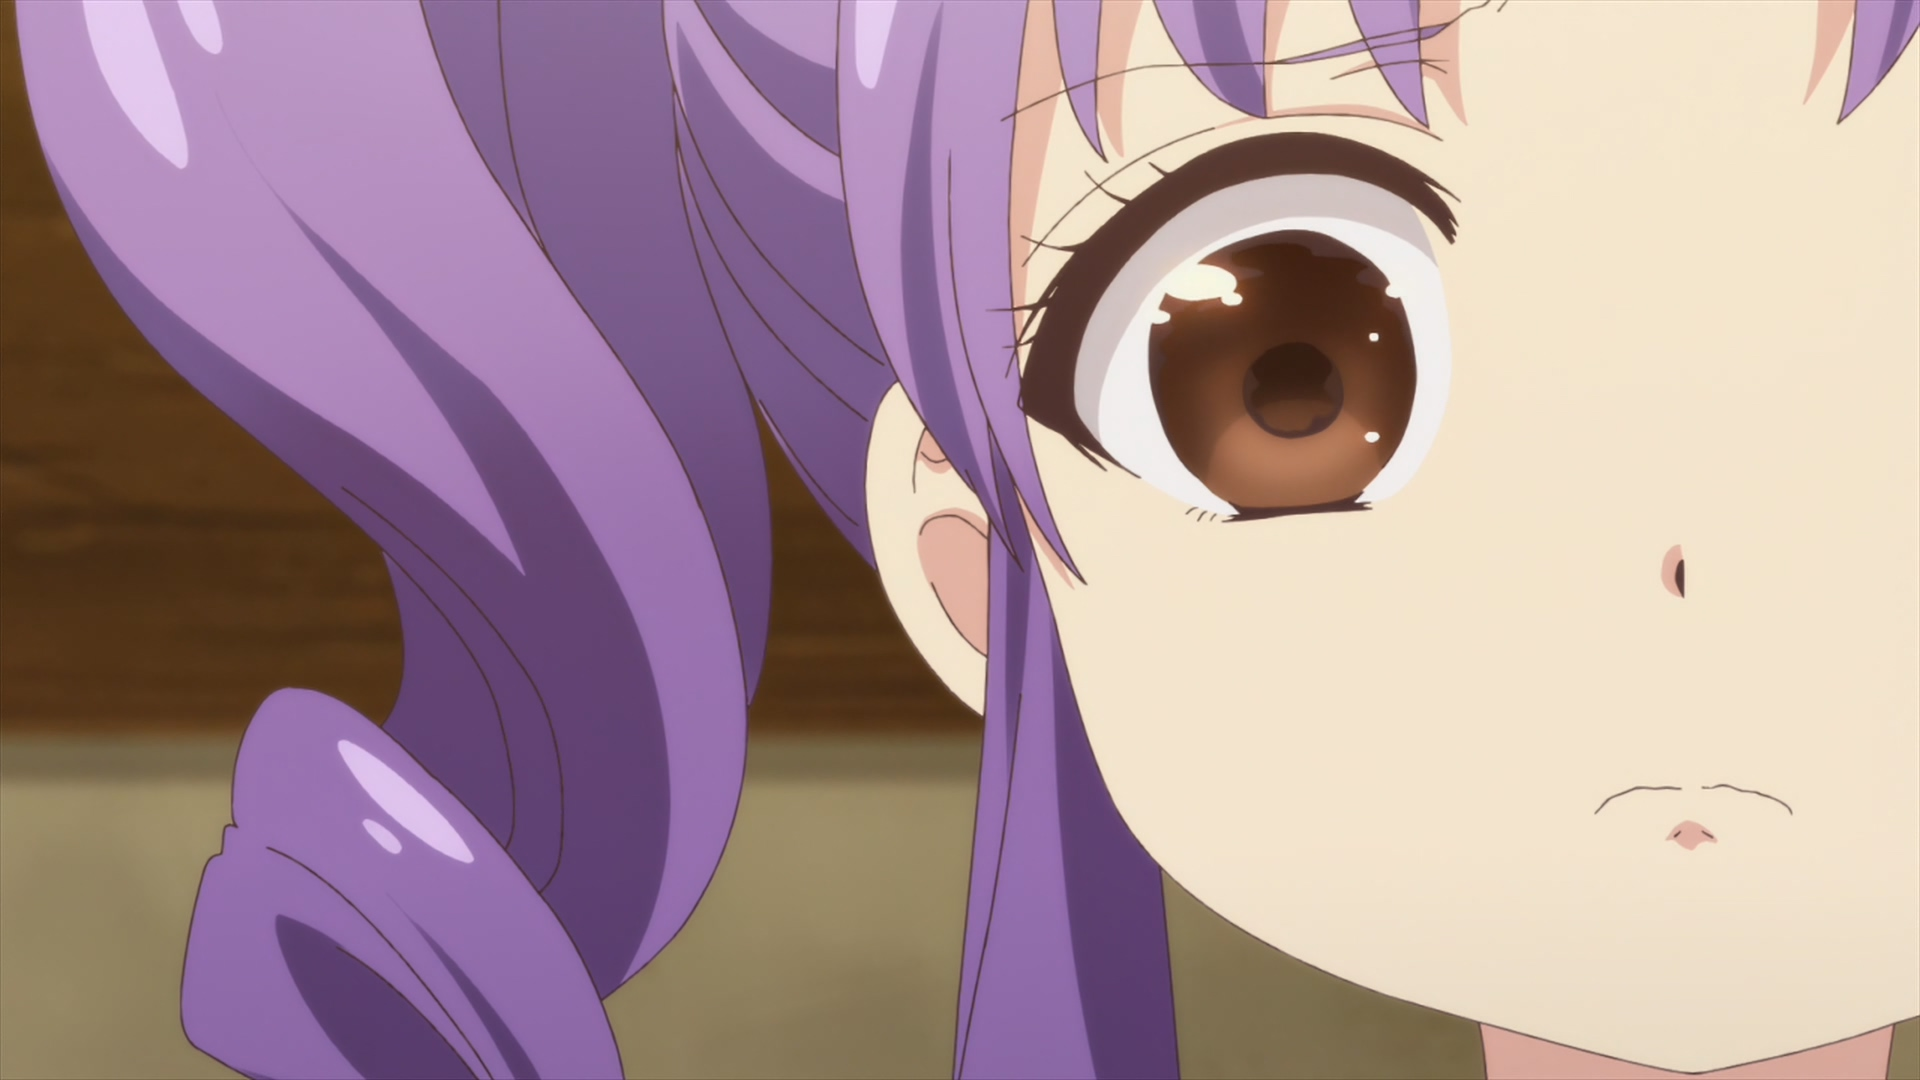阿菊: (16, 1, 1920, 1080)
